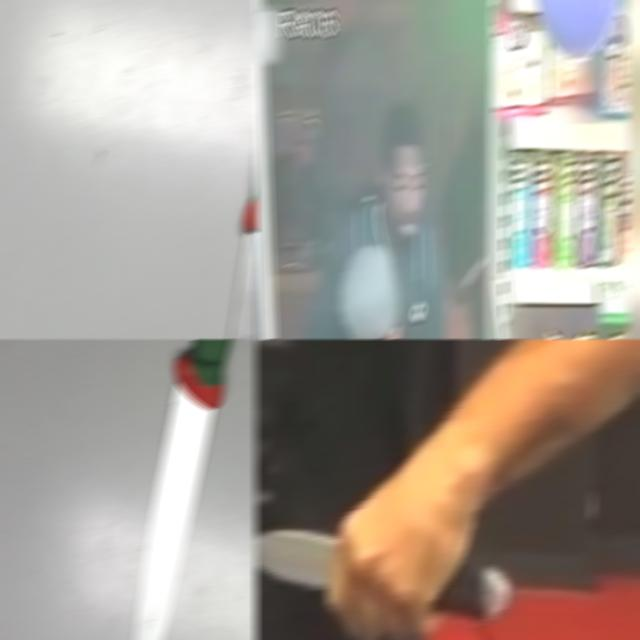Knife: (132, 339, 233, 640), (254, 530, 510, 616)
Knife_Handle: (254, 484, 508, 640)
